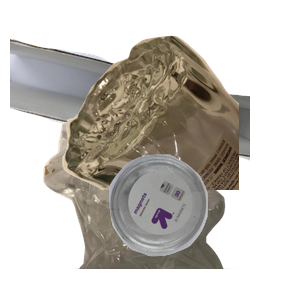cardboard: (10, 35, 250, 188)
glass: (60, 33, 300, 213)
plastic: (107, 152, 300, 300)
trash: (41, 120, 276, 300)
